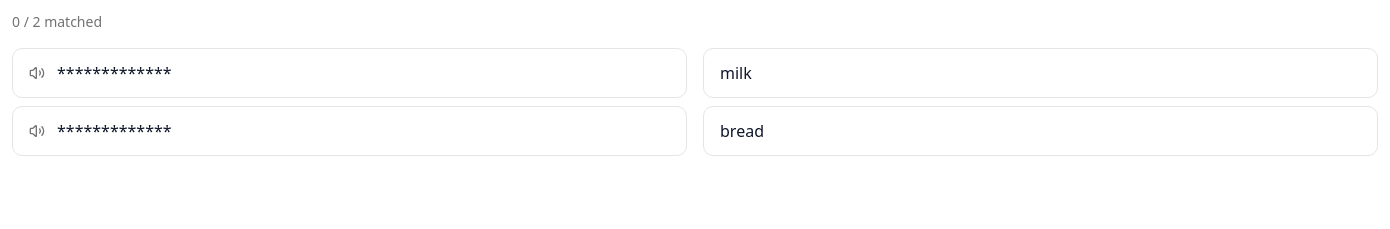
MatchingExercise › shows the completion message once all pairs are matched
Click the 1st button "*************": (114, 73) [12,48,687,98]
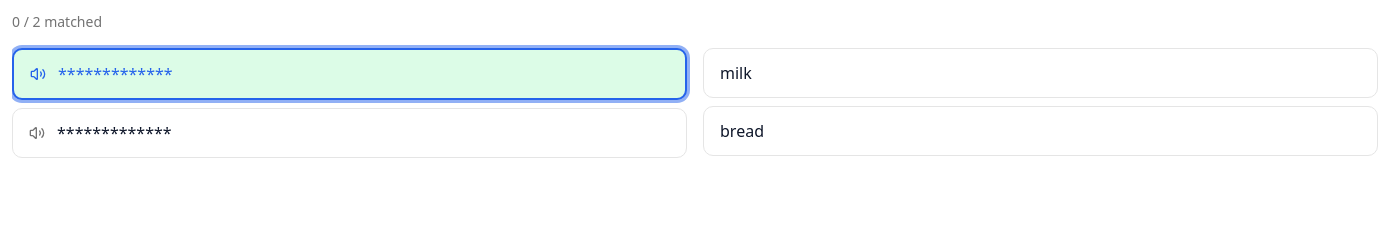
Click the button "bread": (742, 131) [703,106,1378,156]
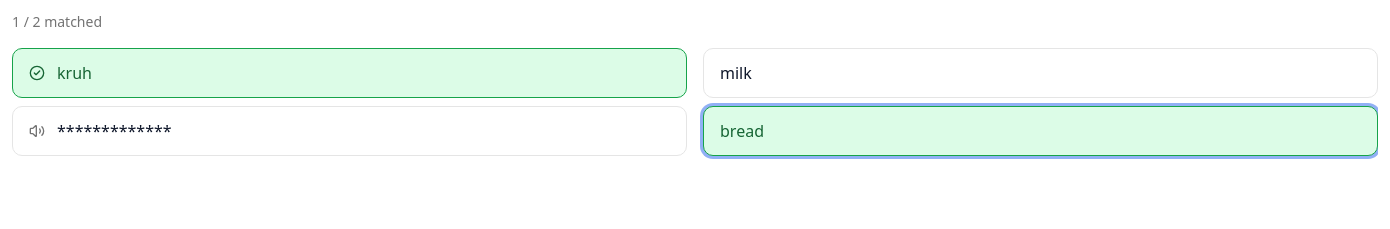
Click the button "*************": (114, 131) [12,106,687,156]
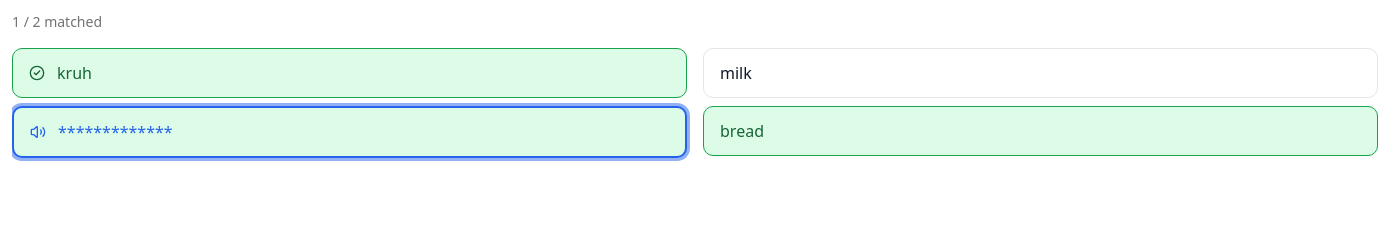
Click the button "milk": (736, 73) [703,48,1378,98]
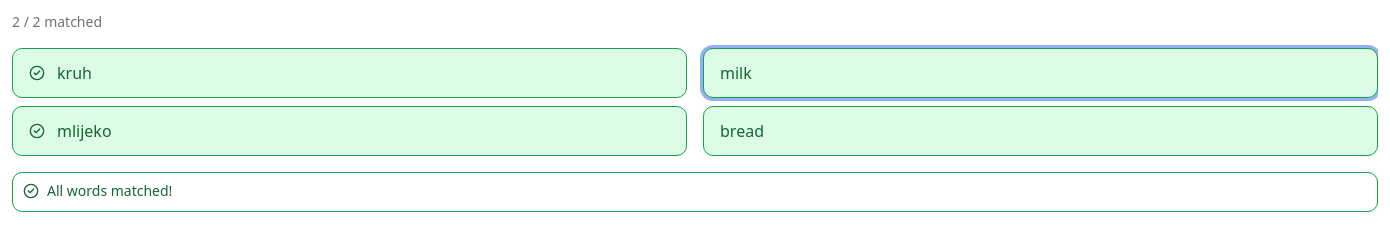
Result: the text "All words matched!" is shown at [47,181,172,200]
Result: the text "2 / 2 matched" is shown at [12,12,102,31]
